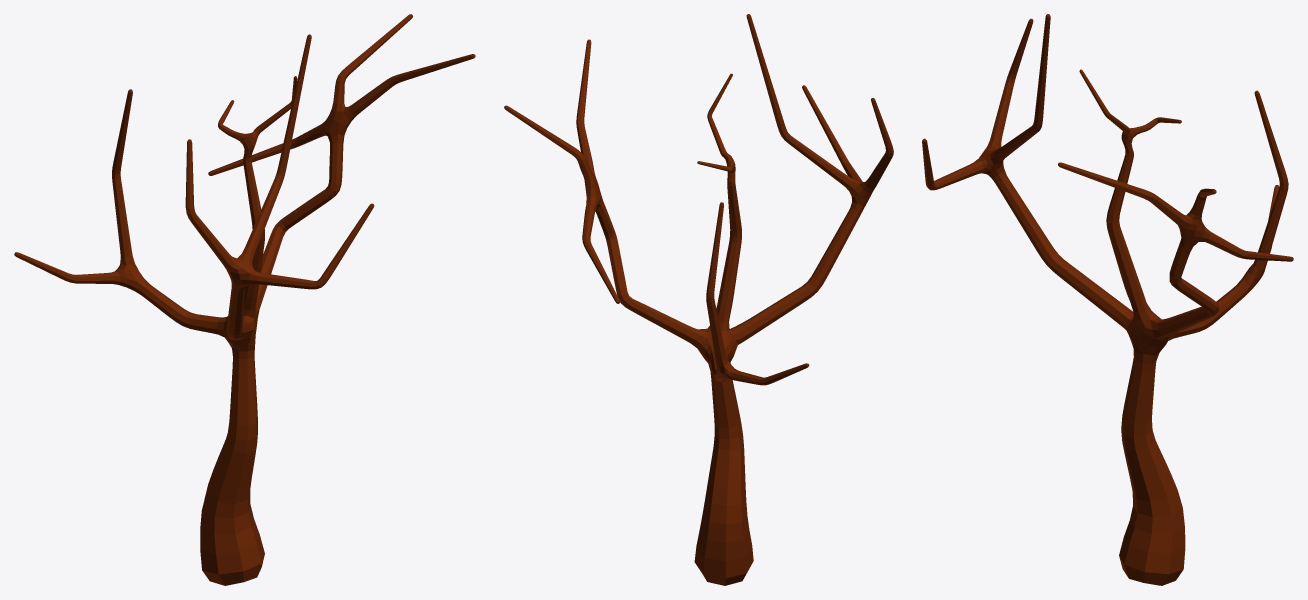
File: Tree1.obj
3 views of the same model, side by side, from view 1: azimuth 30°, elevation 25°; view 2: azimuth 150°, elevation 25°; view 3: azimuth 270°, elevation 25° (orthographic). The views are drawn at different scales.
Parts seen in each view (by area): view 1: Cube; view 2: Cube; view 3: Cube.
Boxes of the visible parts, x1=… form: Cube: x1=14, y1=14, x2=475, y2=585; Cube: x1=504, y1=14, x2=893, y2=585; Cube: x1=922, y1=14, x2=1293, y2=585.
Bounding box in the file's own units: 3.09 × 4.66 × 2.71.
1 material, 1 textured.
